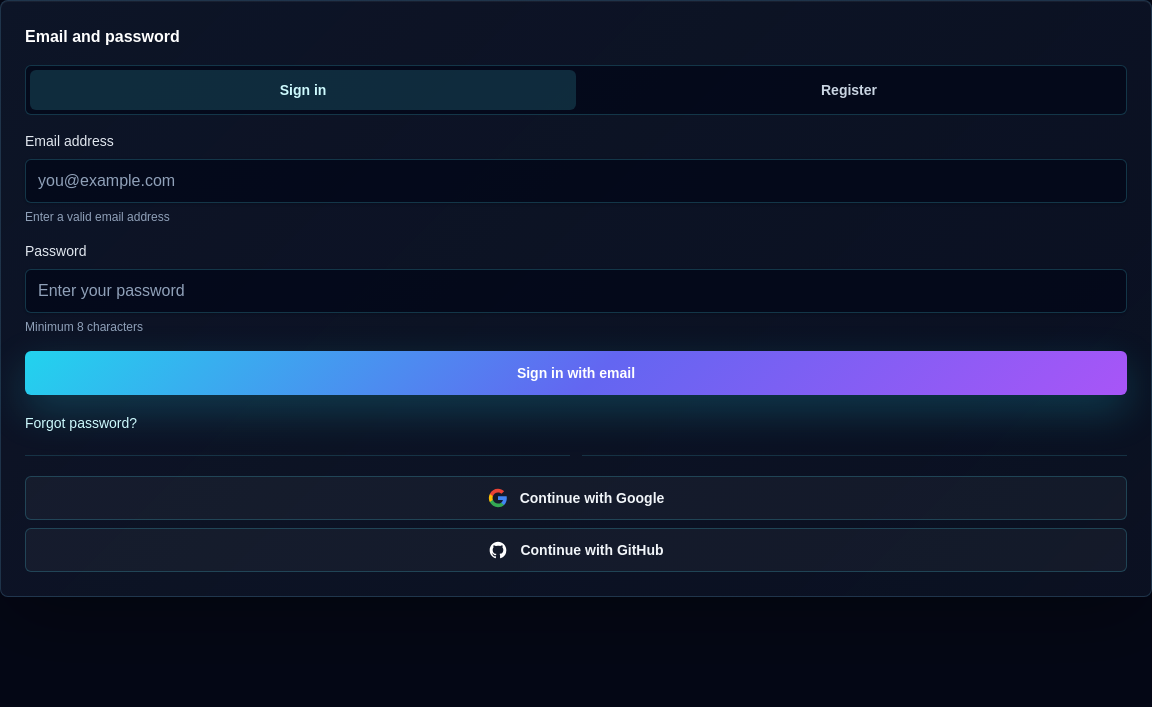
LoginForm › does not show the verification email success state when the account already exists
Click the button "Register".
click(849, 90)  # box [576,70,1122,110]
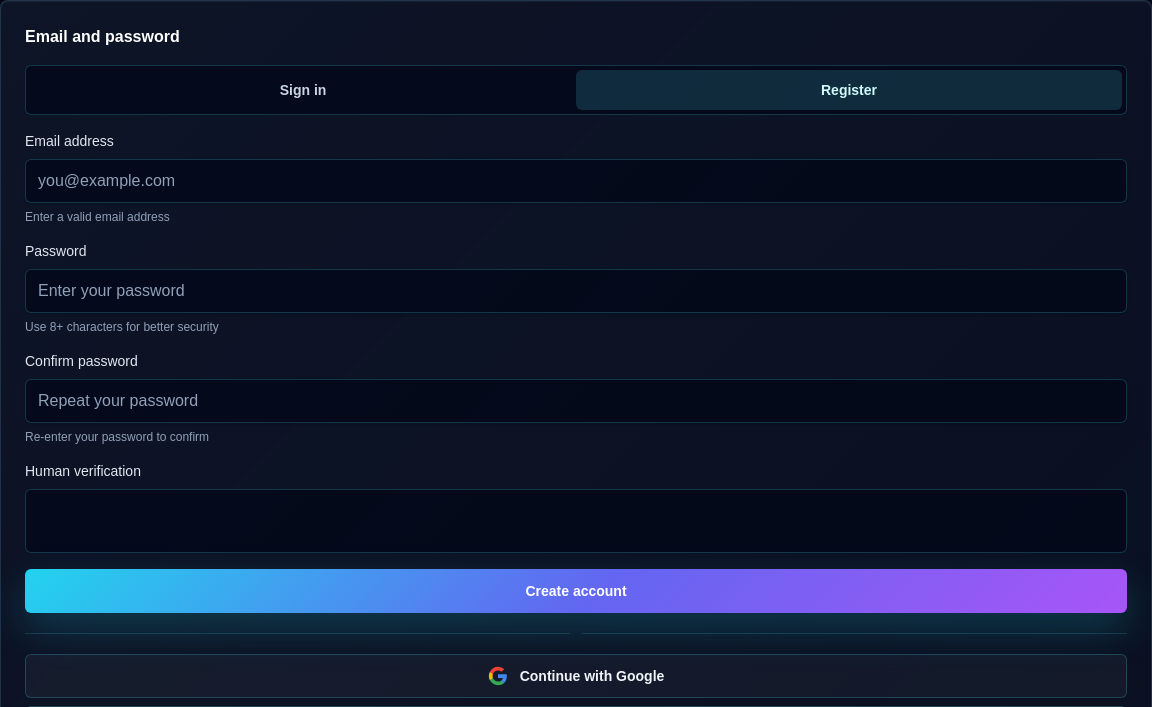
Type "existing@example.com" into the field labelled "Email address".
click(576, 181); type("existing@example.com")  # box [25,159,1127,203]
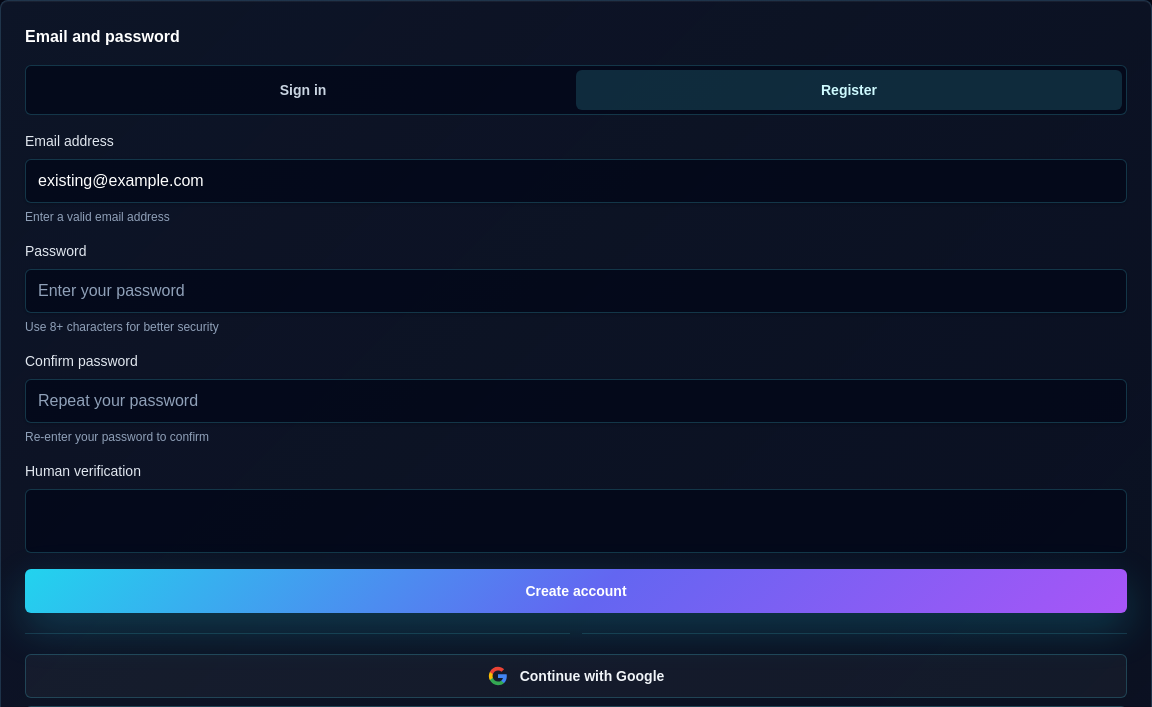
Type "new-password" into the password field labelled "Password".
click(576, 291); type("new-password")  # box [25,269,1127,313]
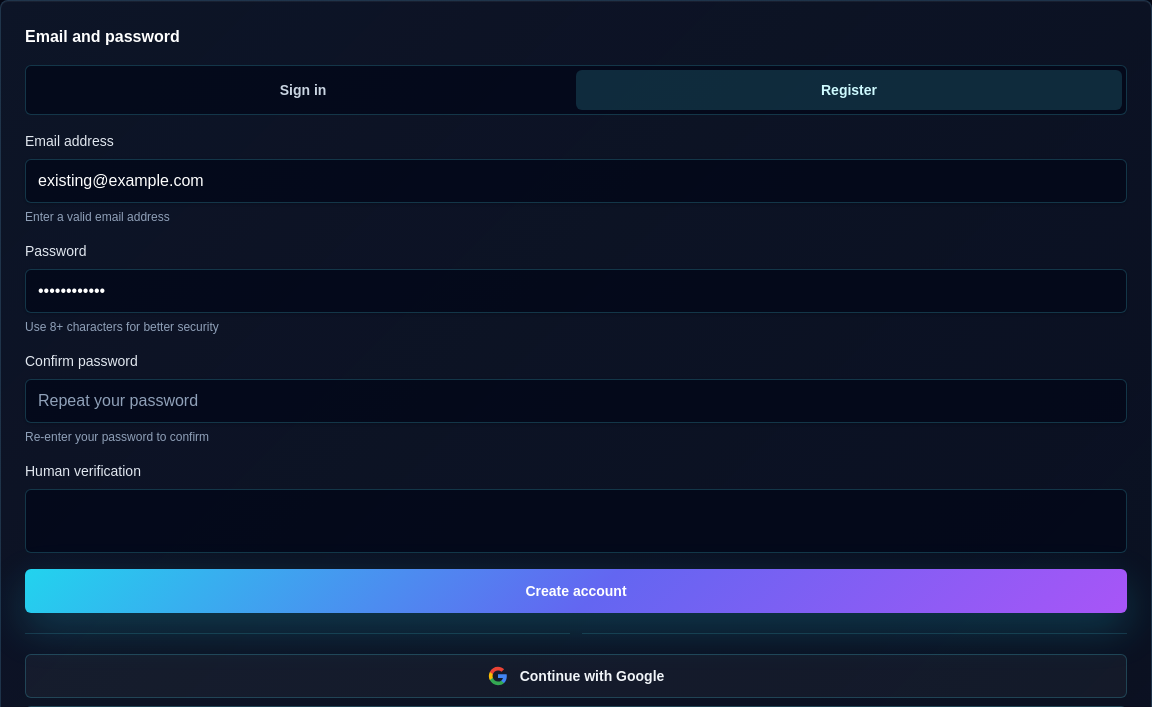
Type "new-password" into the password field labelled "Confirm password".
click(576, 401); type("new-password")  # box [25,379,1127,423]
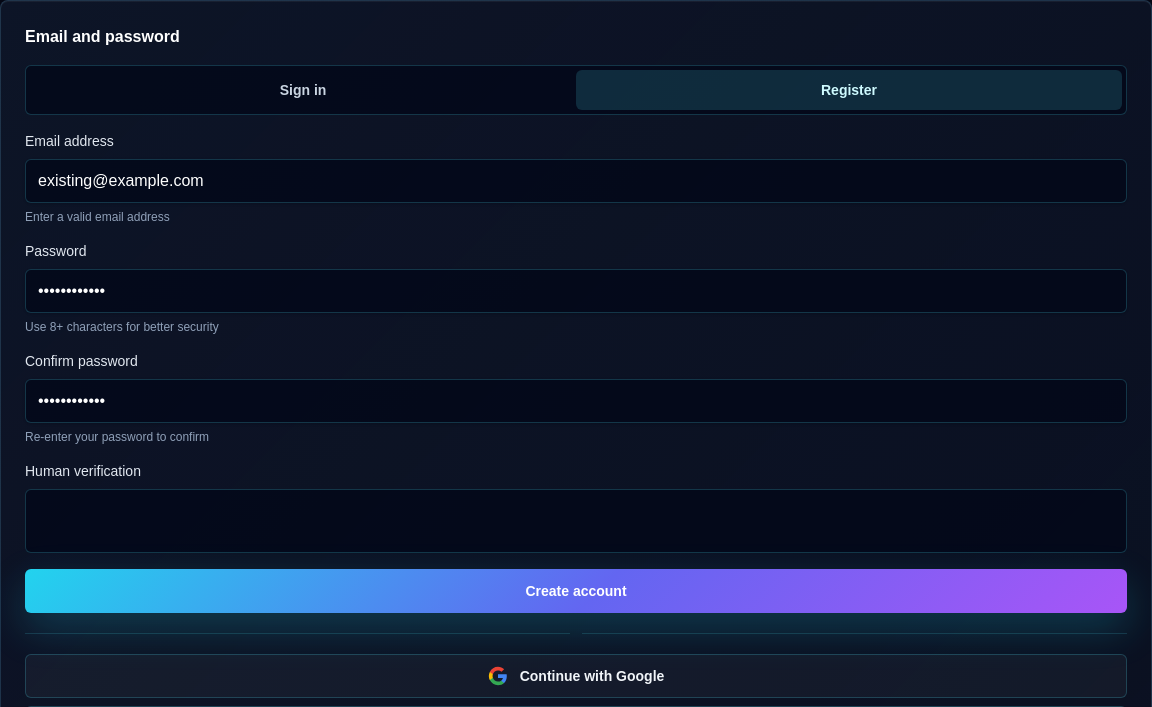
Click the button "Create account".
click(576, 591)  # box [25,569,1127,613]
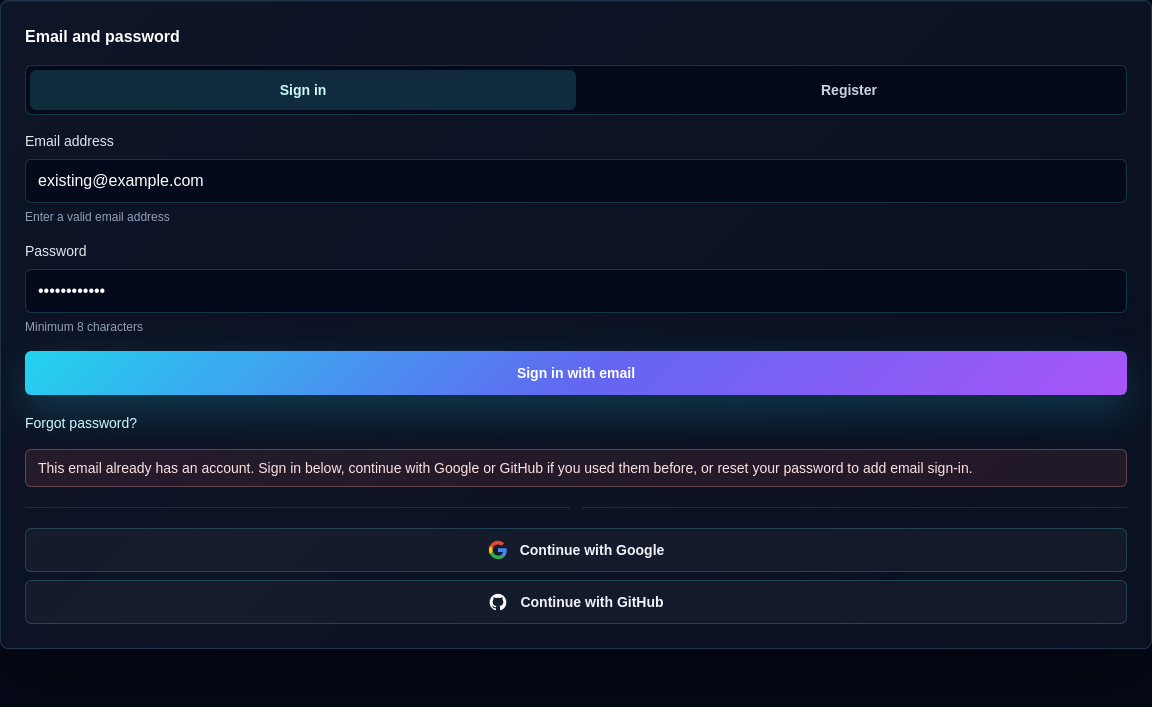
Now the message shows "This email already has an account.", box [38,460,973,476]
Now the message shows "continue with Google or GitHub", box [38,460,973,476]
Now the message shows "reset your password to add email sign-in", box [38,460,973,476]
